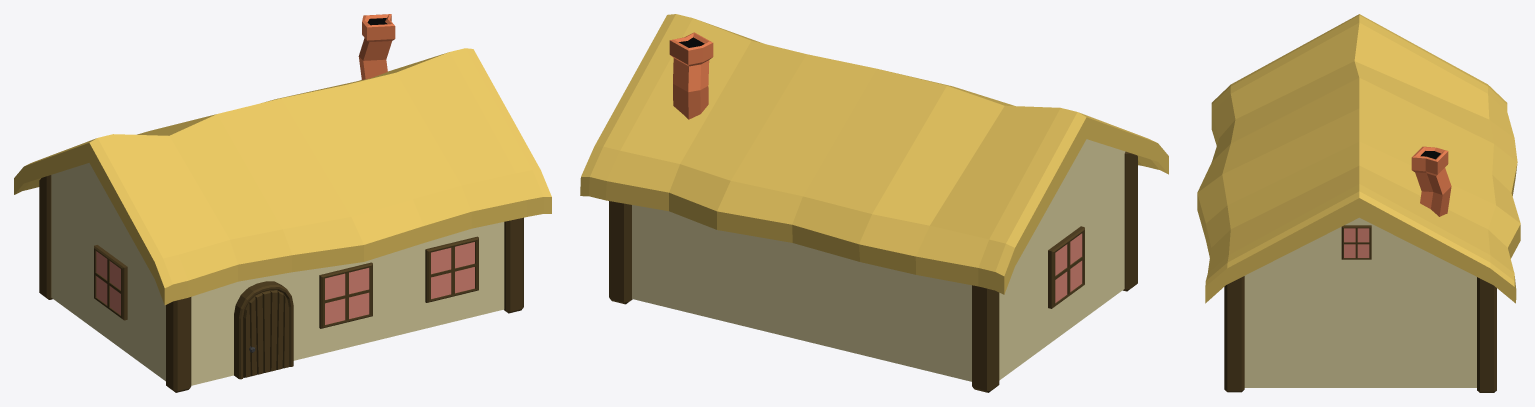
Rendered from SM_House_Farm_01.fbx.
The picture shows the model from 3 angles, left to right: view 1: azimuth 30°, elevation 25°; view 2: azimuth 150°, elevation 25°; view 3: azimuth 270°, elevation 25°; orthographic projection. The views are drawn at different scales.
Visible parts, largest first — view 1: Dach, House Body, Door.001, Wood Beam.001, Window Glass.001, Cube, Wood Beam, Window Glass.002, Doorframe.001, Wood Beam.003, Window.001, Window.002 (+2 smaller); view 2: Dach, House Body, Cube, Wood Beam.003, Wood Beam.002, Wood Beam.001, Window.004, Window Glass.004; view 3: Dach, House Body, Wood Beam, Wood Beam.002, Cube, Window Glass.003, Window.003.
Part boxes in pixels (box(x1,y1,x2,y2)): Dach: box(14, 48, 551, 304); House Body: box(51, 163, 504, 385); Door.001: box(243, 290, 288, 377); Wood Beam.001: box(166, 297, 191, 392); Window Glass.001: box(325, 268, 369, 324); Cube: box(358, 14, 395, 79); Wood Beam: box(504, 217, 523, 313); Window Glass.002: box(431, 242, 474, 298); Doorframe.001: box(234, 281, 293, 379); Wood Beam.003: box(39, 175, 52, 299); Window.001: box(319, 262, 372, 328); Window.002: box(425, 236, 478, 302); Dach: box(580, 14, 1168, 294); House Body: box(632, 139, 1125, 381); Cube: box(669, 32, 713, 119); Wood Beam.003: box(972, 285, 999, 392); Wood Beam.002: box(609, 201, 632, 304); Wood Beam.001: box(1123, 151, 1137, 291); Window.004: box(1048, 226, 1084, 308); Window Glass.004: box(1055, 233, 1082, 302); Dach: box(1197, 14, 1520, 303); House Body: box(1244, 217, 1476, 387); Wood Beam: box(1224, 276, 1244, 392); Wood Beam.002: box(1477, 277, 1496, 392); Cube: box(1411, 146, 1451, 216); Window Glass.003: box(1344, 228, 1369, 257); Window.003: box(1341, 225, 1371, 259).
Bounding box in the file's own units: 679 × 379 × 504.
